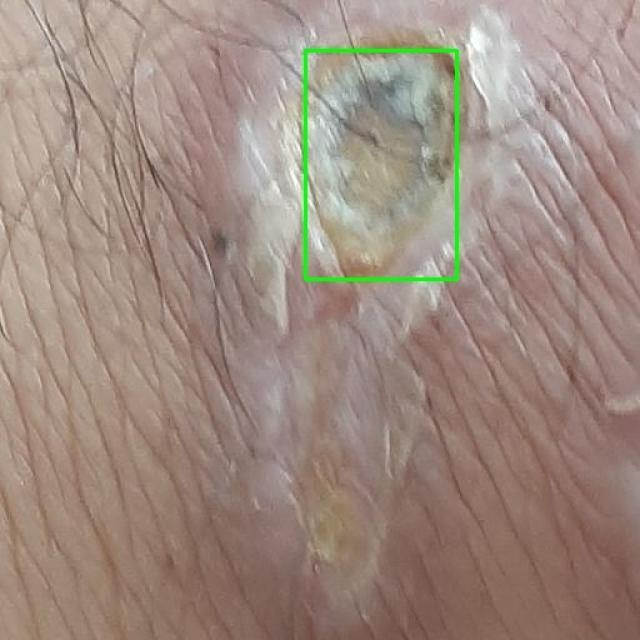Contact Dermatitis: (305, 50, 456, 279)
